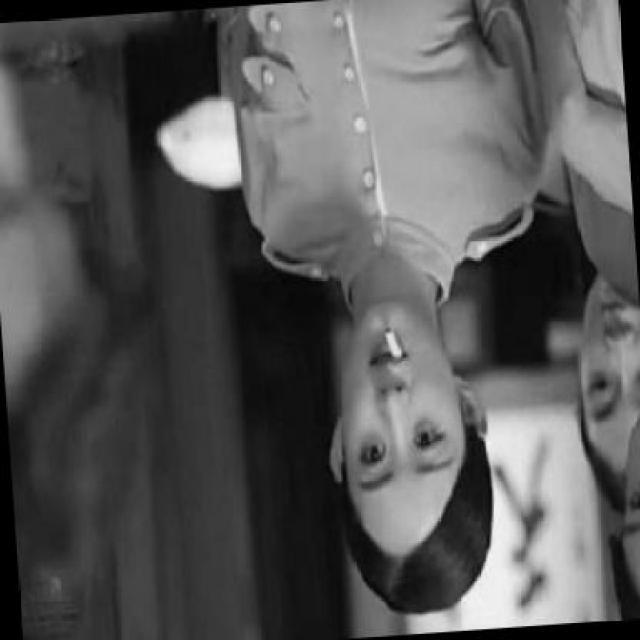smoke: (382, 323, 404, 360)
